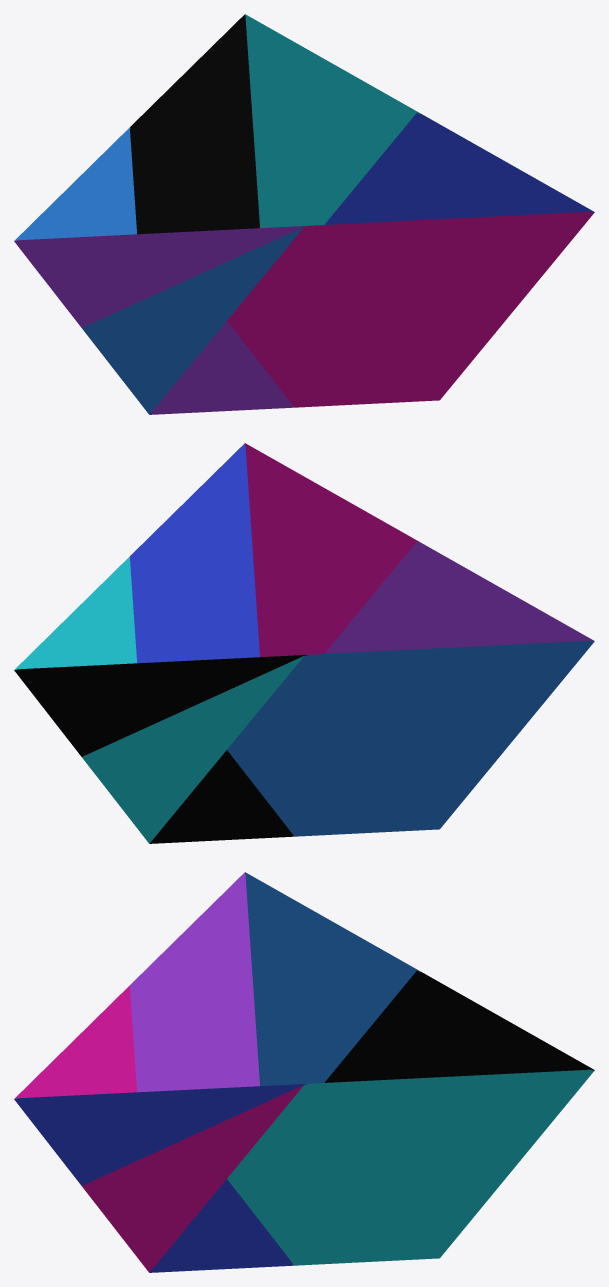
Rendered from boatdisk1.glb.
The picture shows the model from 3 angles, top to bottom: view 1: azimuth 30°, elevation 25°; view 2: azimuth 150°, elevation 25°; view 3: azimuth 270°, elevation 25°; orthographic projection.
Visible parts, largest first — view 1: Solid.002; view 2: Solid.002; view 3: Solid.002.
Boxes of the visible parts, bbox=[...] form: Solid.002: bbox=[14, 14, 594, 414]; Solid.002: bbox=[14, 443, 594, 843]; Solid.002: bbox=[14, 872, 594, 1272].
Size of the model in its own units: 1.5 by 0.6667 by 1.62.
